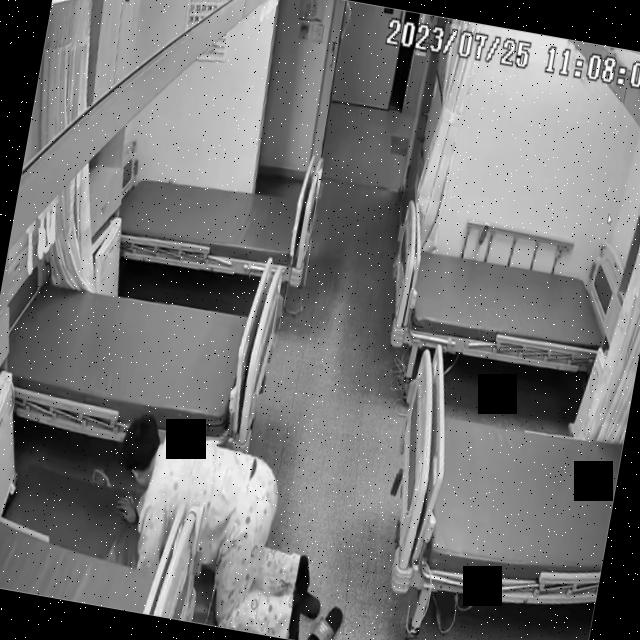bed: (376, 342, 634, 620), (0, 264, 278, 460), (379, 225, 630, 384), (114, 158, 316, 286)
fall: (93, 408, 347, 640)
patient: (93, 407, 345, 640)
